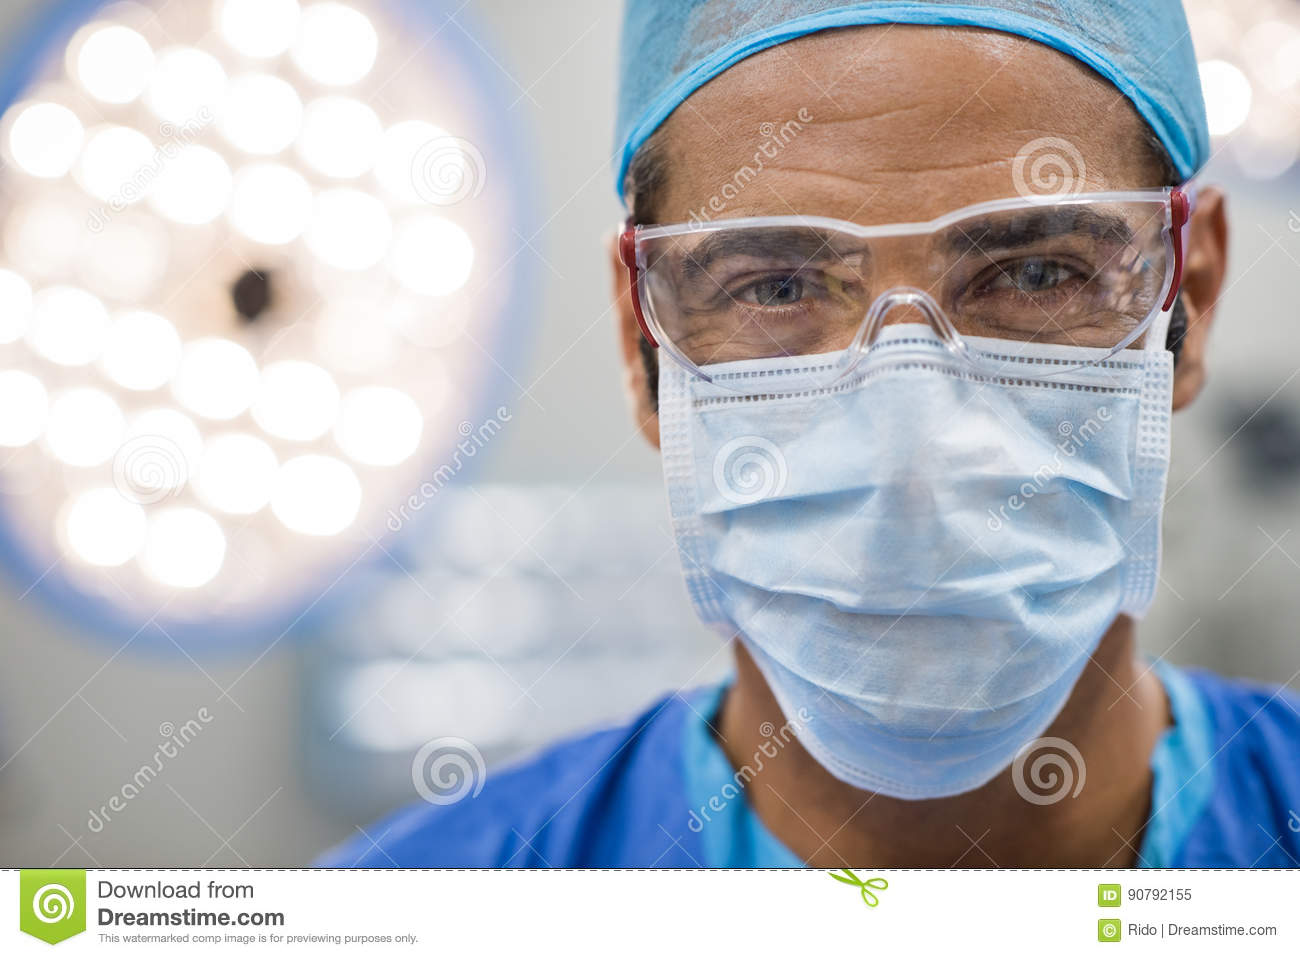mask: (672, 345, 1206, 789)
